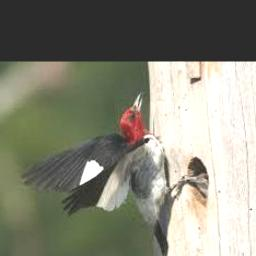Woodpecker: (23, 92, 207, 256)
